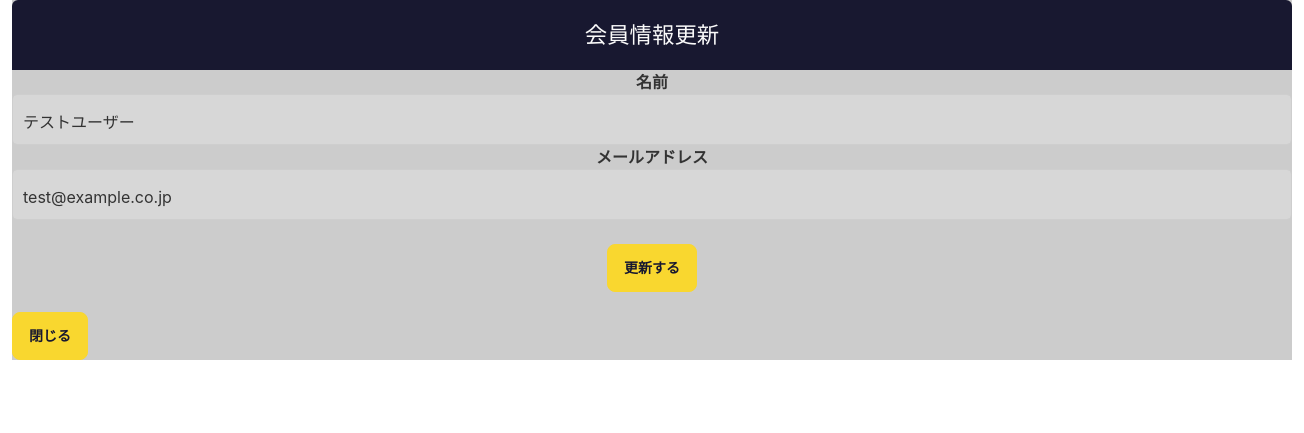
Test case: Edit email › メールアドレスの形式が不正の場合、エラーメッセージを表示
Step 1. Replace the text in the 2nd field with placeholder "Type email here" with "xxxx1111" → point(652, 194), box left=12, top=169, right=1292, bottom=220
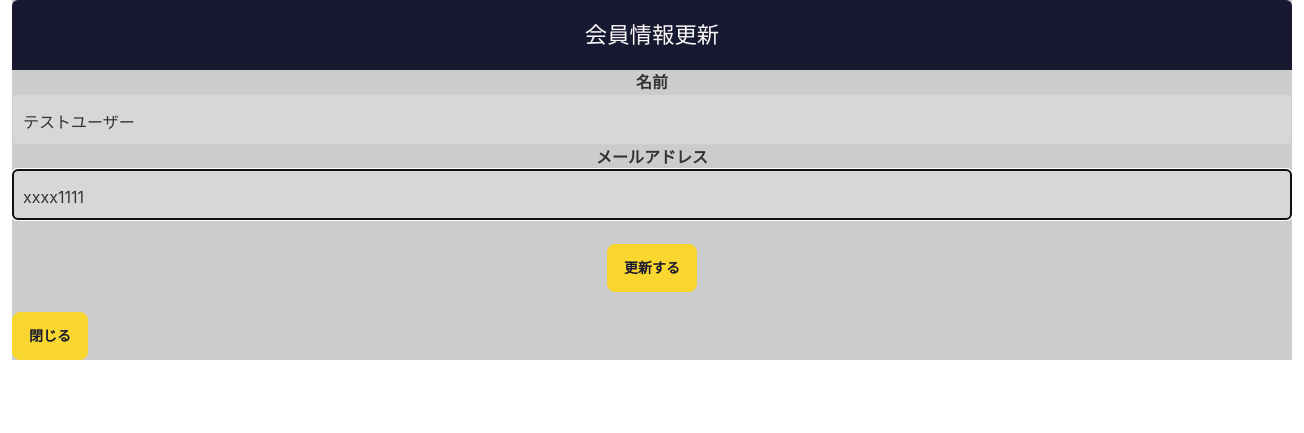
Step 2. Click the button "更新する" → point(652, 268), box left=607, top=244, right=697, bottom=292
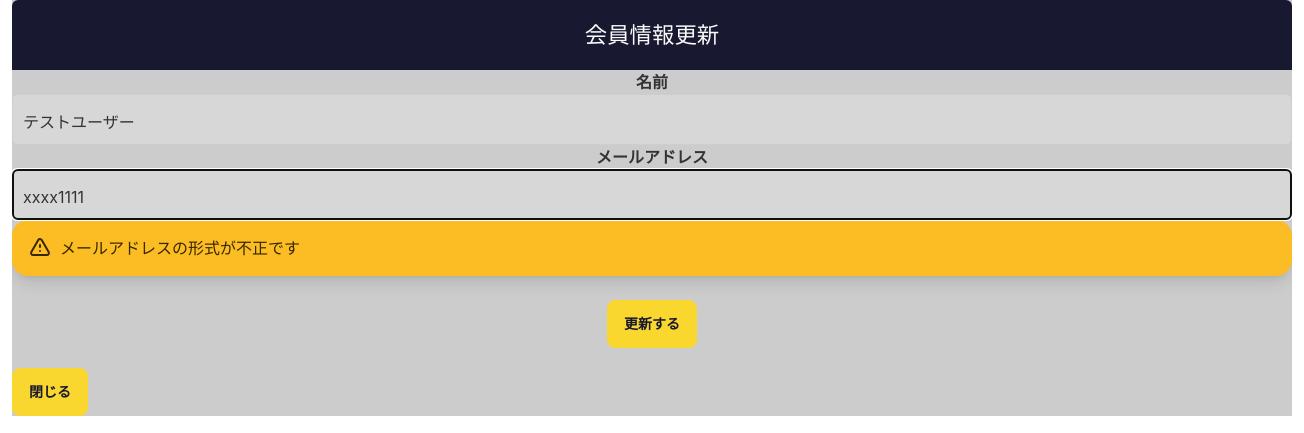
Result: the text "メールアドレスの形式が不正です" is shown at left=60, top=236, right=300, bottom=260
